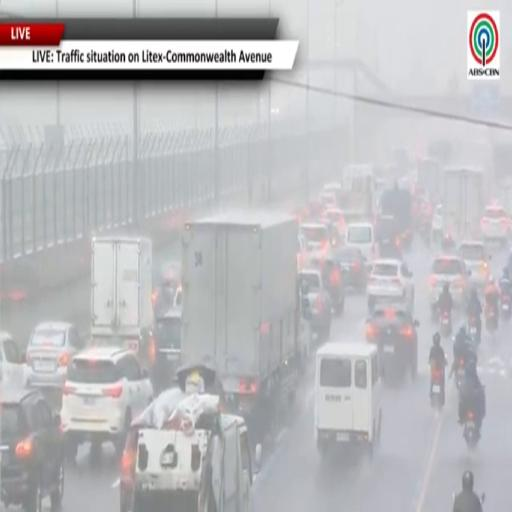car: (62, 347, 153, 460), (0, 387, 64, 511), (315, 342, 382, 458), (26, 322, 85, 390), (366, 304, 419, 377), (430, 255, 471, 319), (367, 259, 414, 313), (299, 268, 332, 339), (153, 309, 181, 389), (311, 253, 345, 315), (459, 240, 491, 289), (152, 261, 181, 315), (334, 248, 367, 292), (0, 332, 26, 387), (345, 222, 376, 261), (375, 216, 402, 259), (481, 205, 509, 246), (300, 221, 329, 251), (320, 217, 342, 249), (324, 207, 345, 237), (432, 204, 443, 243), (297, 235, 307, 269), (320, 191, 337, 207), (172, 284, 182, 310), (324, 183, 342, 196)
motorcycle: (463, 410, 479, 449), (431, 364, 443, 409), (468, 315, 480, 345), (486, 303, 498, 332), (419, 217, 431, 246), (454, 359, 465, 390), (440, 310, 452, 337), (501, 294, 511, 321), (441, 234, 456, 252), (480, 493, 485, 505)
truck: (181, 211, 305, 436), (120, 389, 260, 511), (90, 236, 155, 373), (442, 167, 485, 239), (339, 164, 377, 221), (381, 182, 413, 246), (417, 158, 442, 204), (498, 176, 511, 217)
